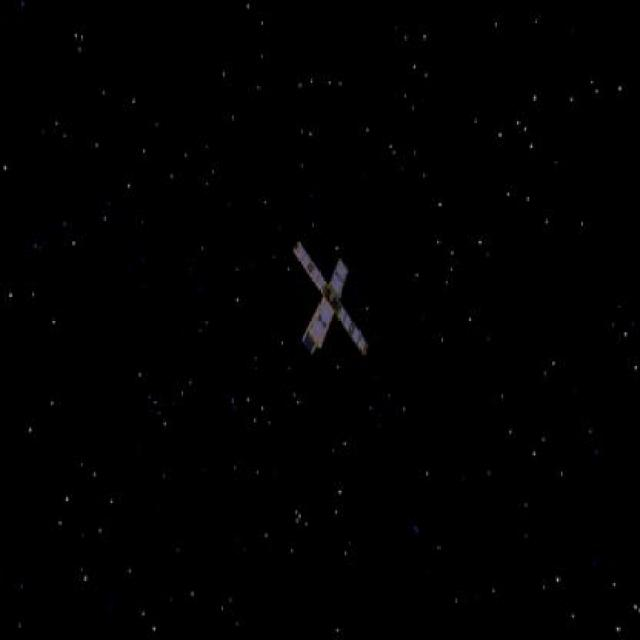satellite: (285, 240, 377, 362)
